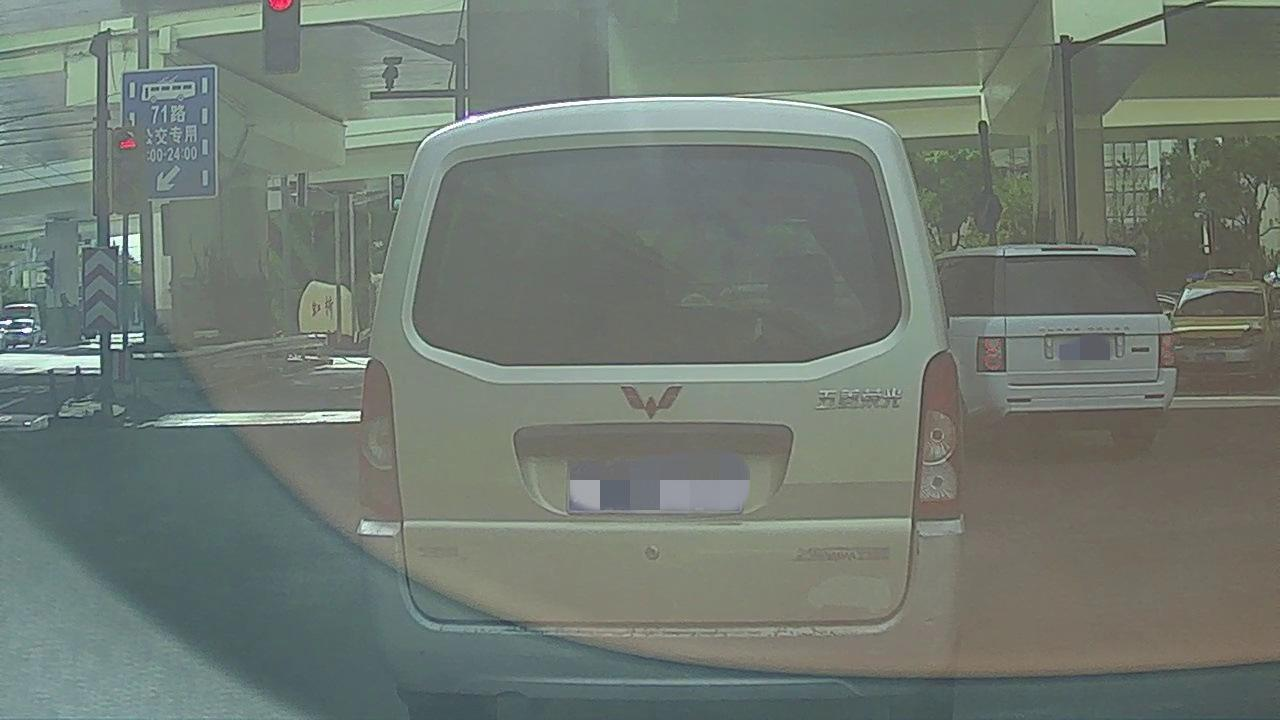traffic_light: (263, 1, 300, 71)
